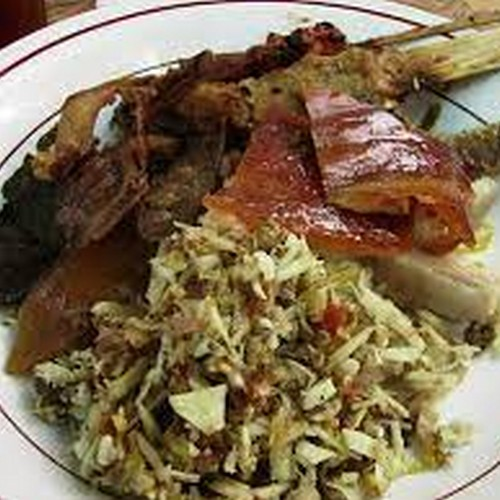lawar: (124, 259, 414, 494)
